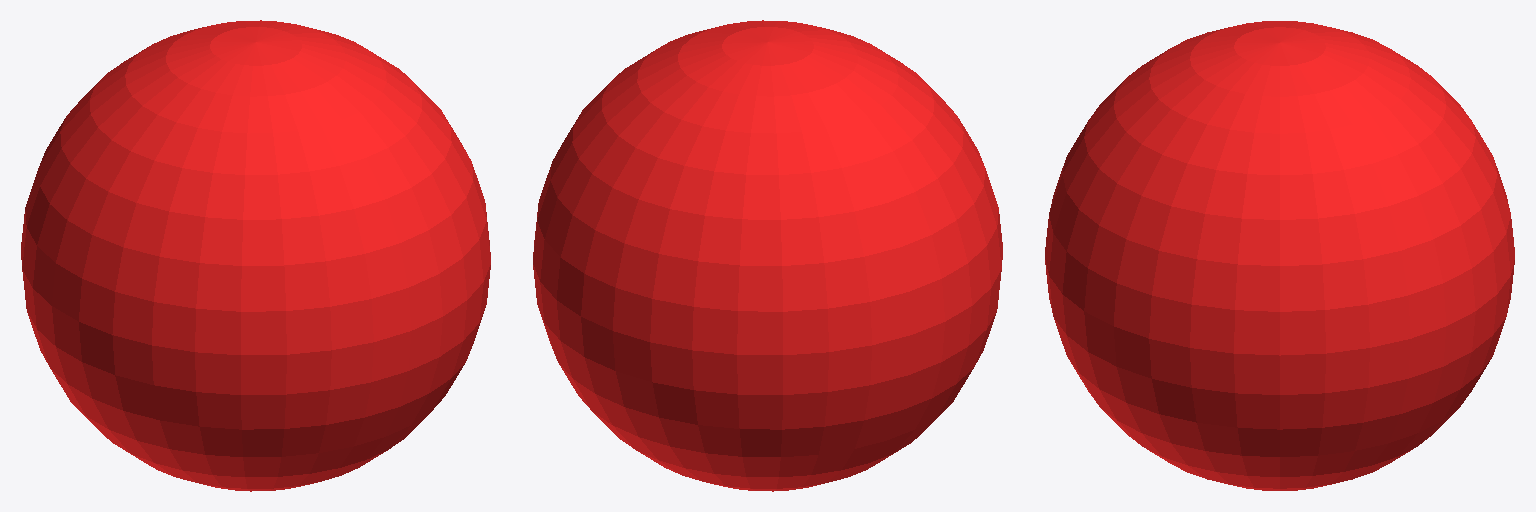
The robot description file, URDF, robot "soccer_ball":
<?xml version="1.0" encoding="utf-8"?>
<robot name="soccer_ball">
  <link name="soccer_ball">
    <inertial>
      <mass value="0.43"/>
      <origin xyz="0 0 0" rpy="0 0 0"/>
      <inertia ixx="0.002" ixy="0" ixz="0" iyy="0.002" iyz="0" izz="0.002"/>
    </inertial>
    <visual>
      <origin xyz="0 0 0" rpy="0 0 0"/>
      <geometry>
        <sphere radius="0.11"/>
      </geometry>
      <material name="ball_texture">
        <color rgba="1.0 0.2 0.2 1.0"/>
      </material>
    </visual>
    <visual>
      <origin xyz="0 0 0.08" rpy="0 0 0"/>
      <geometry>
        <box size="0.01 0.12 0.01"/>
      </geometry>
      <material name="black_mark">
        <color rgba="0.0 0.0 0.0 1.0"/>
      </material>
    </visual>
    <visual>
      <origin xyz="0.08 0 0" rpy="0 0 0"/>
      <geometry>
        <box size="0.01 0.12 0.01"/>
      </geometry>
      <material name="black_mark">
        <color rgba="0.0 0.0 0.0 1.0"/>
      </material>
    </visual>
    <visual>
      <origin xyz="0 0.08 0" rpy="0 0 0"/>
      <geometry>
        <box size="0.12 0.01 0.01"/>
      </geometry>
      <material name="black_mark">
        <color rgba="0.0 0.0 0.0 1.0"/>
      </material>
    </visual>
    <collision>
      <origin xyz="0 0 0" rpy="0 0 0"/>
      <geometry>
        <sphere radius="0.11"/>
      </geometry>
      <contact>
        <restitution value="0.8"/>
        <friction value="0.7"/>
      </contact>
    </collision>
  </link>
</robot> 

--- Facts derived from the render (not from the file) ---
Views: 3 orthographic renders of the robot side by side, from view 1: azimuth 30°, elevation 25°; view 2: azimuth 150°, elevation 25°; view 3: azimuth 270°, elevation 25°.
Model soccer_ball with 1 links and 0 joints (none), rooted at soccer_ball, posed all joints at 0.
Visible links, largest first — view 1: soccer_ball; view 2: soccer_ball; view 3: soccer_ball.
Boxes of the visible links, box(x1,y1,x2,y2) form: soccer_ball: box(21, 20, 490, 491); soccer_ball: box(533, 20, 1002, 491); soccer_ball: box(1045, 21, 1514, 490).
Size in the robot's own frame: 0.22 by 0.22 by 0.22 metres.
Geometry: primitives only (box / cylinder / sphere), no mesh files.